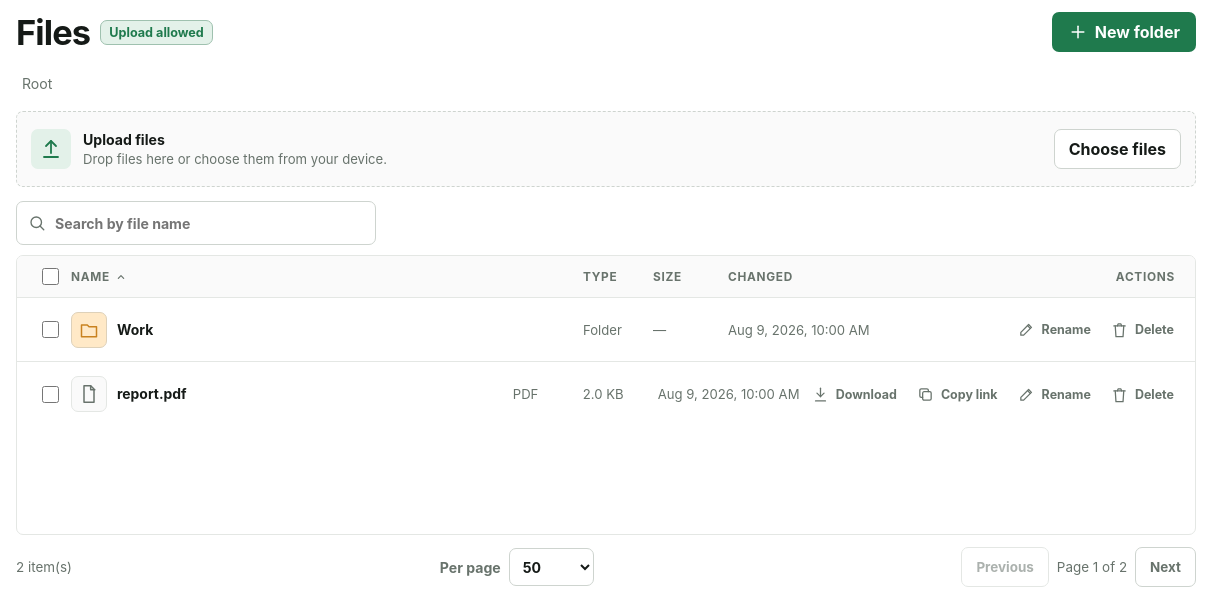
selects the visible files and shows bulk actions
Expected: the text "report.pdf" is shown, [117,386,187,402]
Click the checkbox named "Select report.pdf" at (50, 394), box [42,386,58,402]
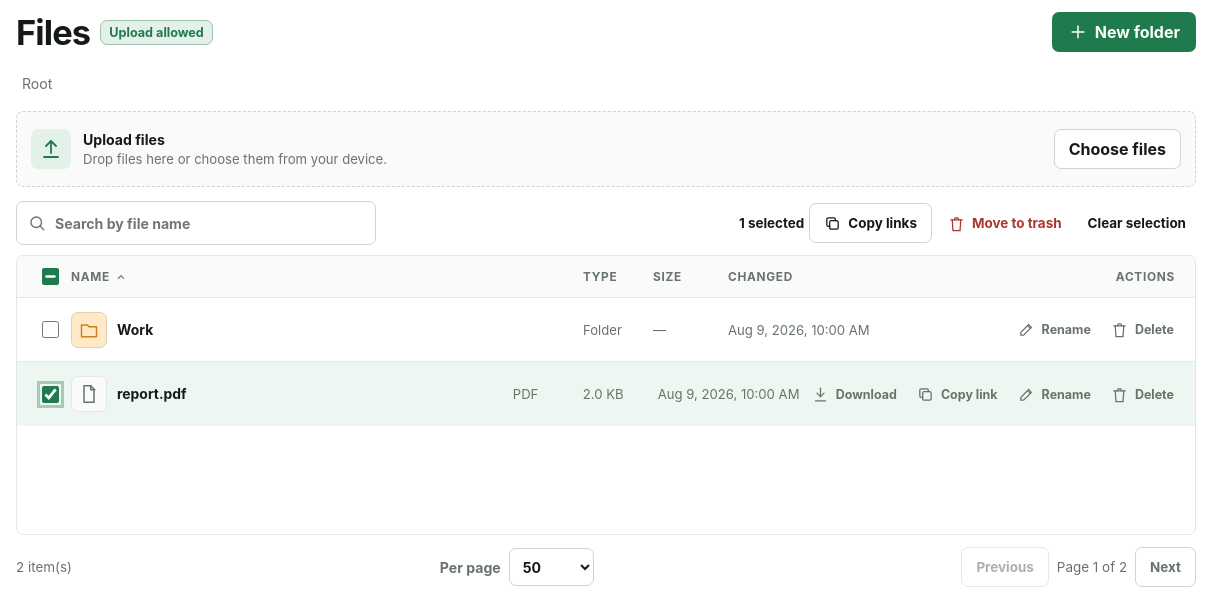
Result: the text "1 selected" is shown at [739,215,804,231]
Result: the button "Copy links" is shown at [809,203,932,243]
Result: the button "Move to trash" is shown at [937,203,1072,243]
